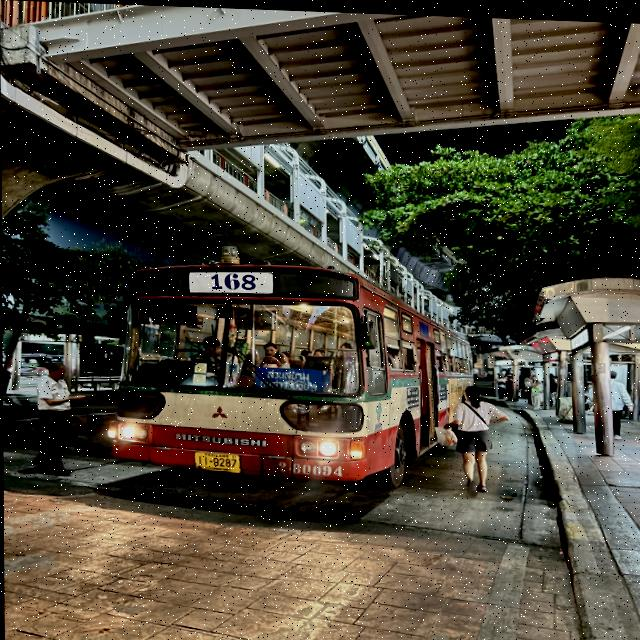BMTA-bus: (99, 256, 461, 485)
Bus-Line-Number: (202, 271, 261, 290)
Destination-Sign-Normal: (257, 363, 325, 390)
